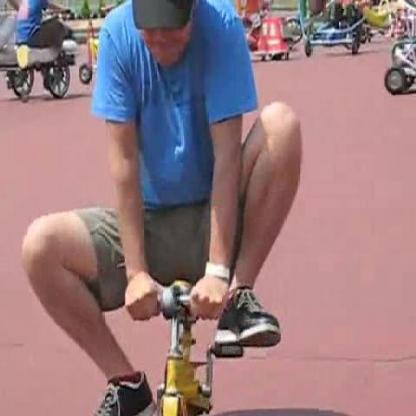other: (124, 290, 222, 408)
